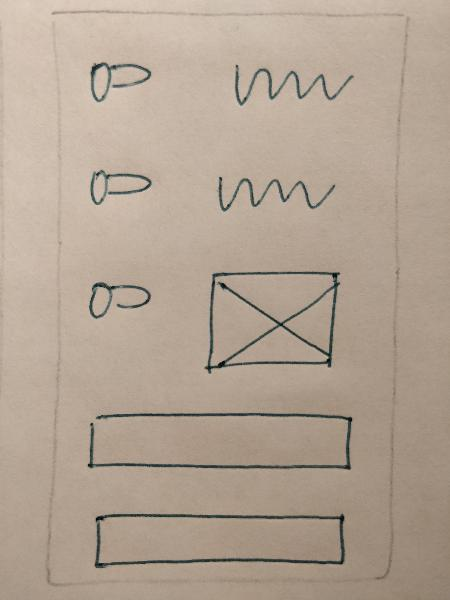image: (197, 261, 345, 378)
switch: (82, 52, 154, 112), (85, 154, 157, 214), (82, 268, 154, 328)
text: (224, 56, 357, 115), (207, 163, 340, 222)
text_input: (82, 406, 358, 481), (86, 506, 351, 570)
